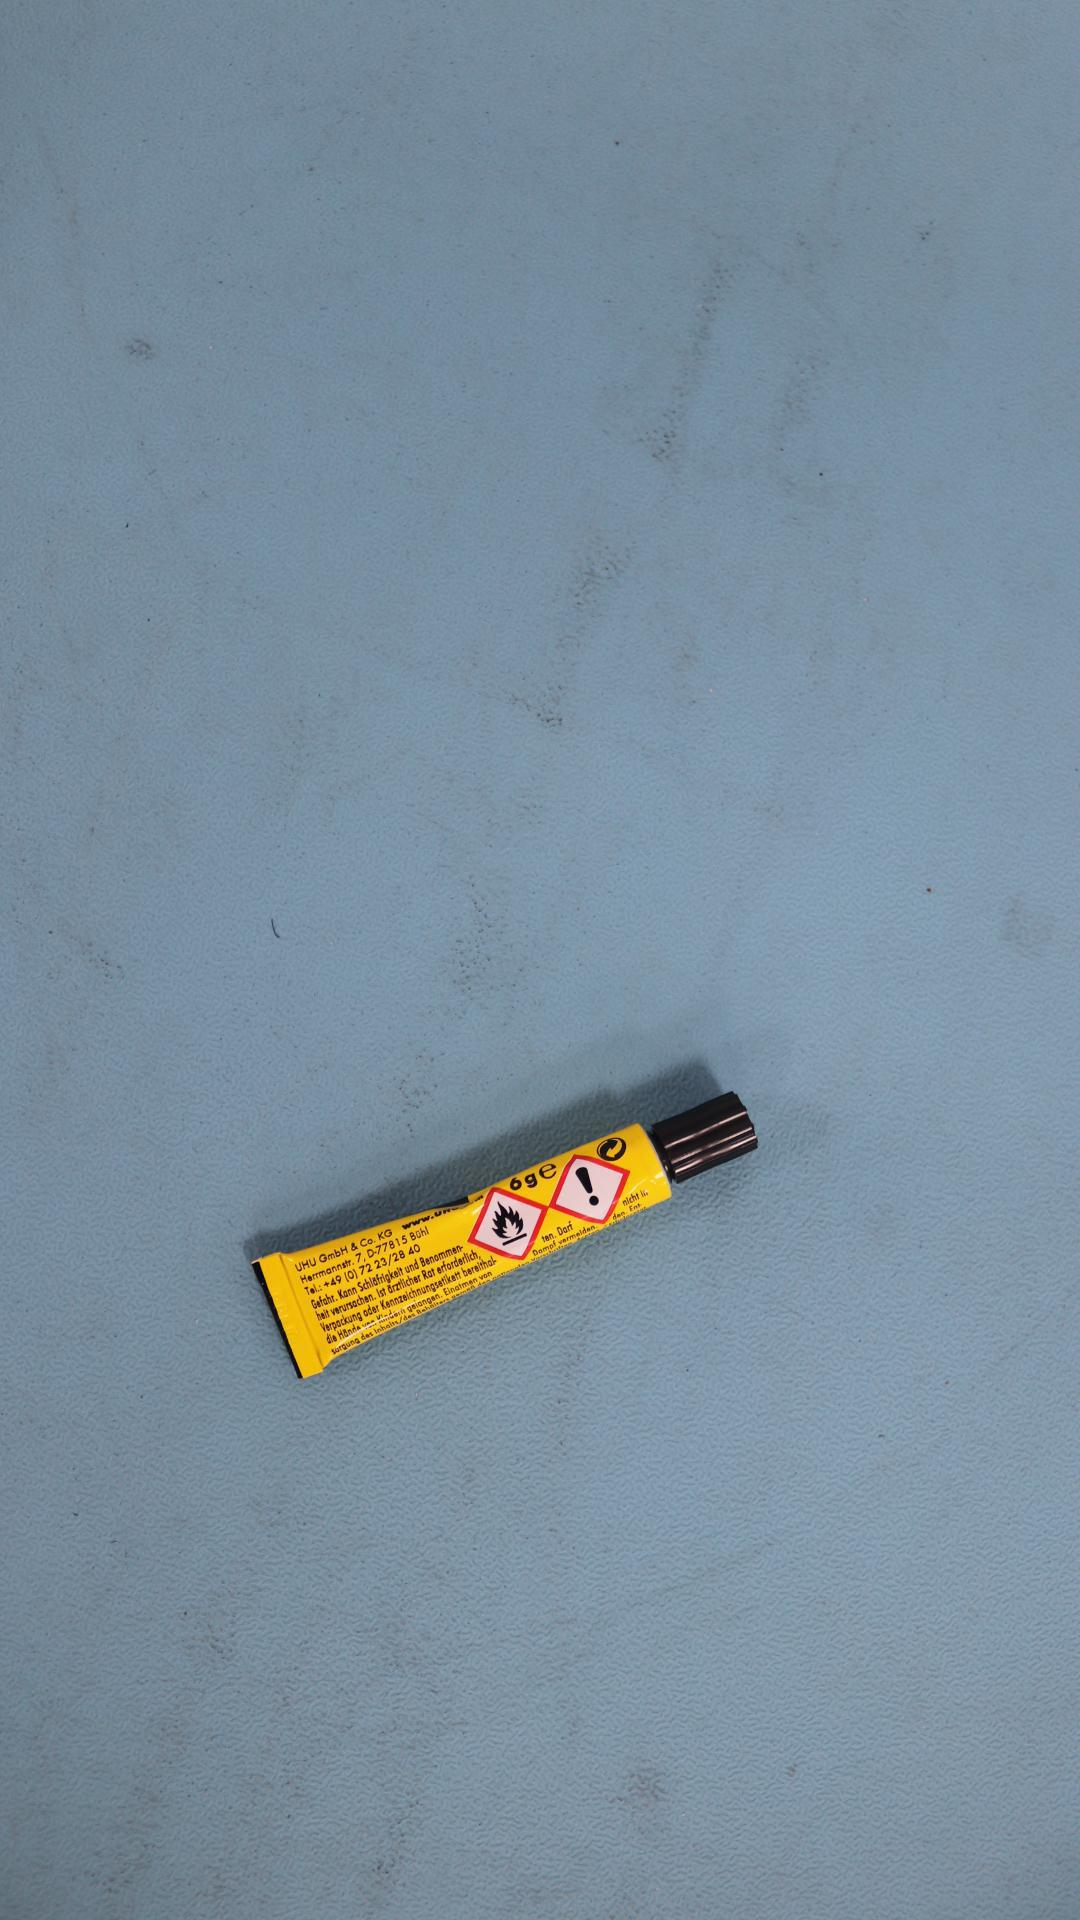Head: (699, 1130, 713, 1145)
Tail: (284, 1315, 297, 1329)
Tube: (249, 1090, 759, 1381)
